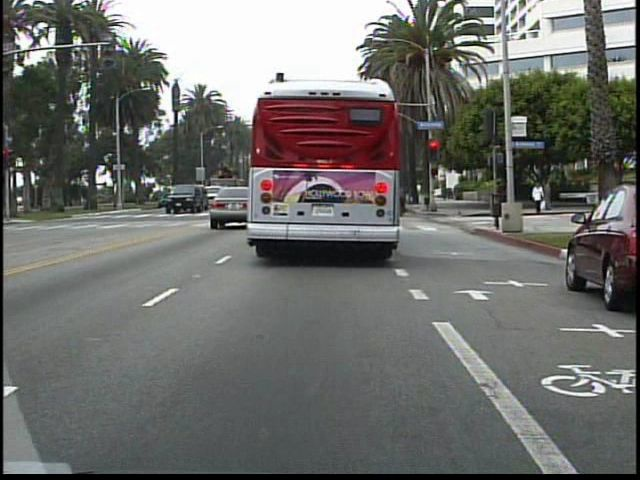person: (594, 173, 617, 228), (531, 179, 547, 217), (397, 181, 413, 216), (545, 179, 554, 213)
